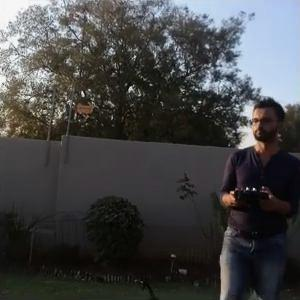follow: (211, 93, 298, 298)
